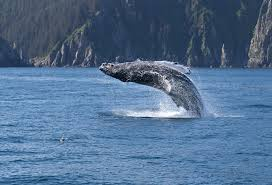humpback: (100, 61, 208, 117)
